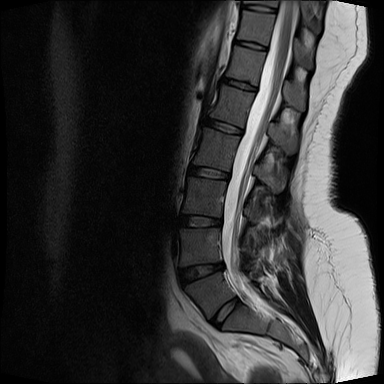Lumbar Disc Bulge (LDB): (173, 256, 230, 289)
Normal IVD: (207, 293, 246, 332), (203, 113, 248, 140), (175, 208, 225, 230), (187, 161, 234, 184), (219, 73, 261, 96), (229, 35, 271, 54), (241, 2, 279, 16)
Spinal Stenosis (SS): (216, 256, 229, 277)
